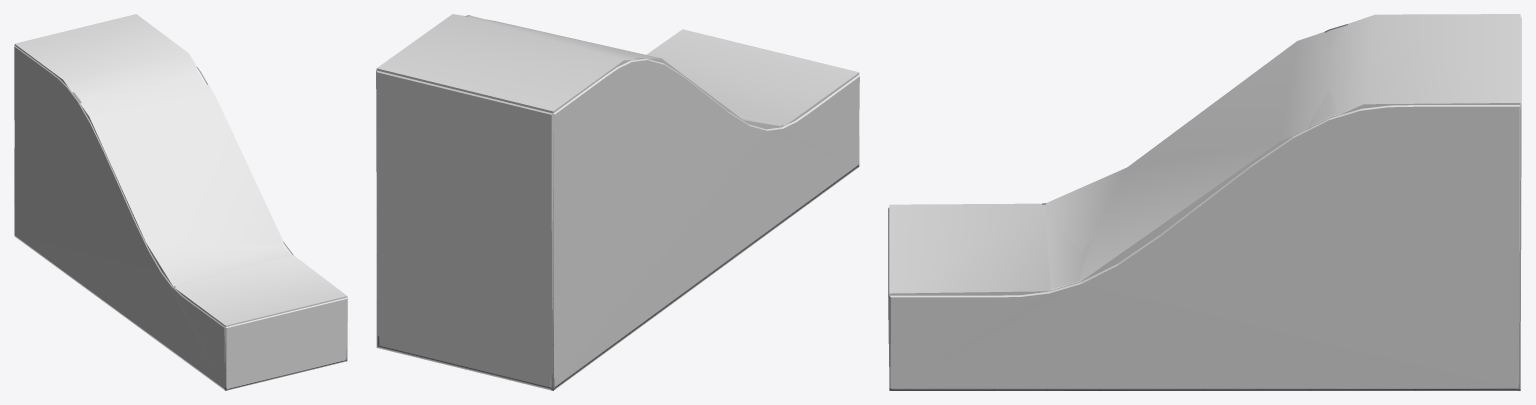
The model's file is s_gm_slope_45.dae.
The picture shows the model from 3 angles, left to right: view 1: azimuth 30°, elevation 25°; view 2: azimuth 150°, elevation 25°; view 3: azimuth 270°, elevation 25°; orthographic projection. The views are drawn at different scales.
Visible parts, largest first — view 1: slope_45_a80, Colmesh_slope_45-1, slope_45_a800; view 2: Colmesh_slope_45-1, slope_45_a80, slope_45_a800; view 3: Colmesh_slope_45-1, slope_45_a80, slope_45_a800.
Boxes of the visible parts, bbox=[...] form: slope_45_a80: bbox=[14, 14, 347, 326]; Colmesh_slope_45-1: bbox=[14, 45, 347, 388]; slope_45_a800: bbox=[14, 67, 347, 390]; Colmesh_slope_45-1: bbox=[376, 16, 859, 386]; slope_45_a80: bbox=[376, 14, 859, 129]; slope_45_a800: bbox=[376, 15, 859, 390]; Colmesh_slope_45-1: bbox=[888, 17, 1521, 387]; slope_45_a80: bbox=[889, 14, 1520, 295]; slope_45_a800: bbox=[889, 24, 1520, 390].
Size of the model in its own units: 8.1 by 24.1 by 12.09.
